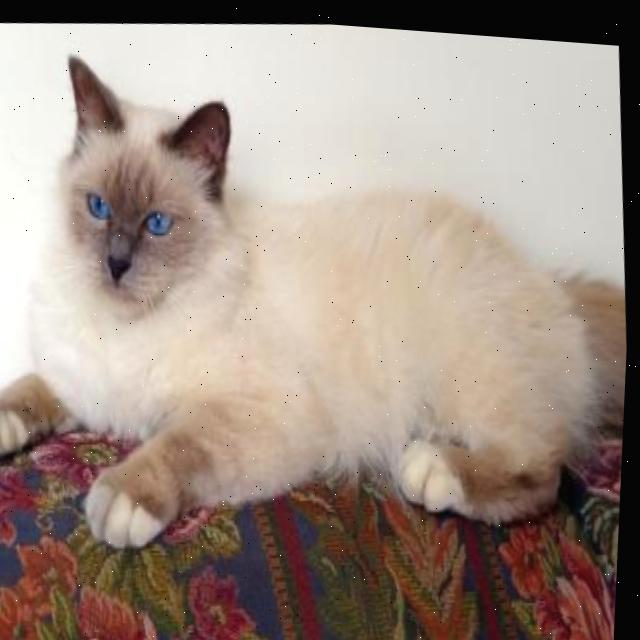Birman: (0, 0, 640, 579)
